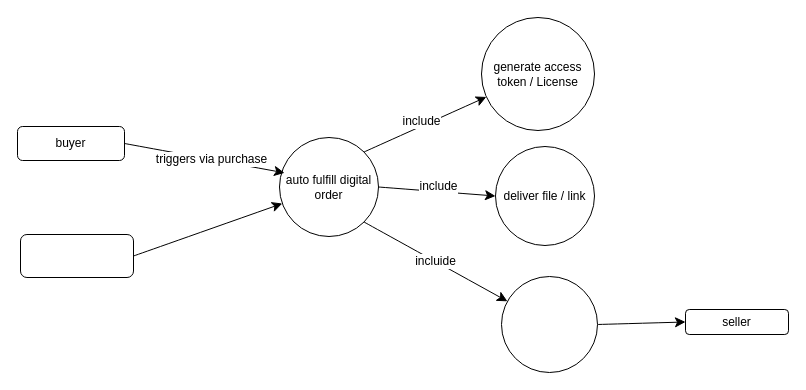
Some shapes in this 806 by 390 pixel diagram are drawn without their labels. The box of each missing label's shape, as (x1, y1, x2, y2) in pixels:
notify seller( record only): (500, 276, 598, 372)
system( automation): (20, 234, 134, 278)
